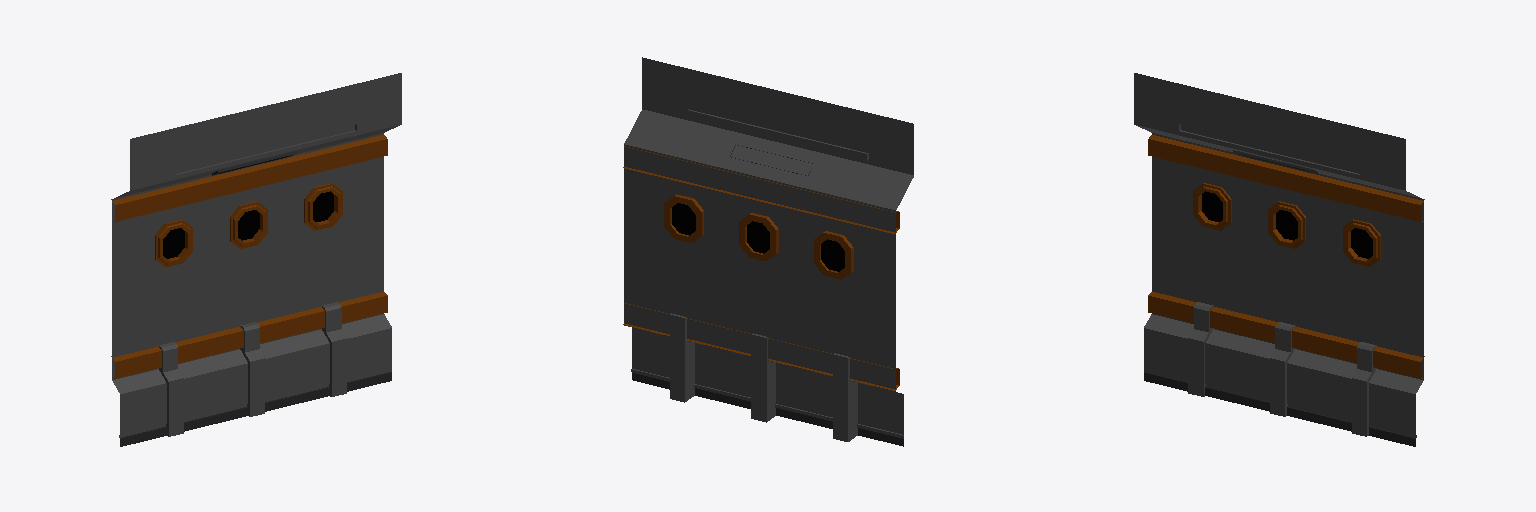
File: SmallWindows_Wall_SideB.obj
3 views of the same model, side by side, from view 1: azimuth 30°, elevation 25°; view 2: azimuth 150°, elevation 25°; view 3: azimuth 330°, elevation 25° (orthographic).
Parts seen in each view (by area): view 1: SmallWindows_Wall_SideB_Plane.039; view 2: SmallWindows_Wall_SideB_Plane.039; view 3: SmallWindows_Wall_SideB_Plane.039.
Part boxes in pixels (bbox=[...]): SmallWindows_Wall_SideB_Plane.039: bbox=[111, 73, 401, 446]; SmallWindows_Wall_SideB_Plane.039: bbox=[623, 57, 913, 446]; SmallWindows_Wall_SideB_Plane.039: bbox=[1134, 73, 1424, 446].
Bounding box in the file's own units: 4 × 4.43 × 0.5261.